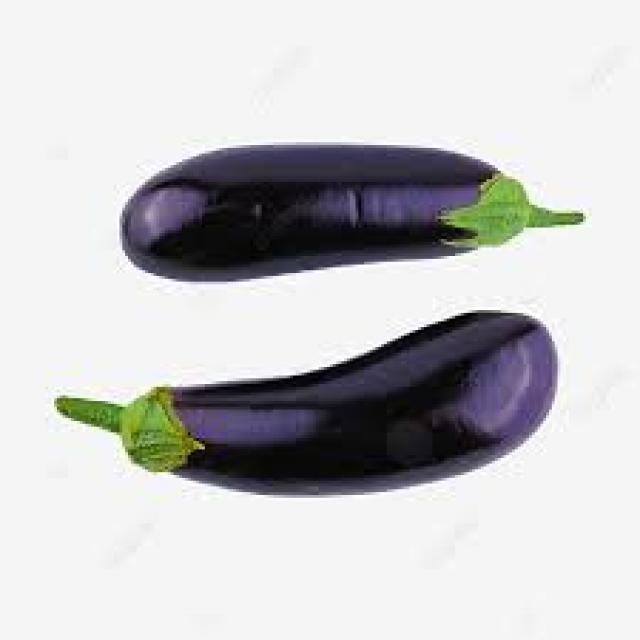Eggplant: (57, 310, 561, 498), (121, 145, 586, 281)
